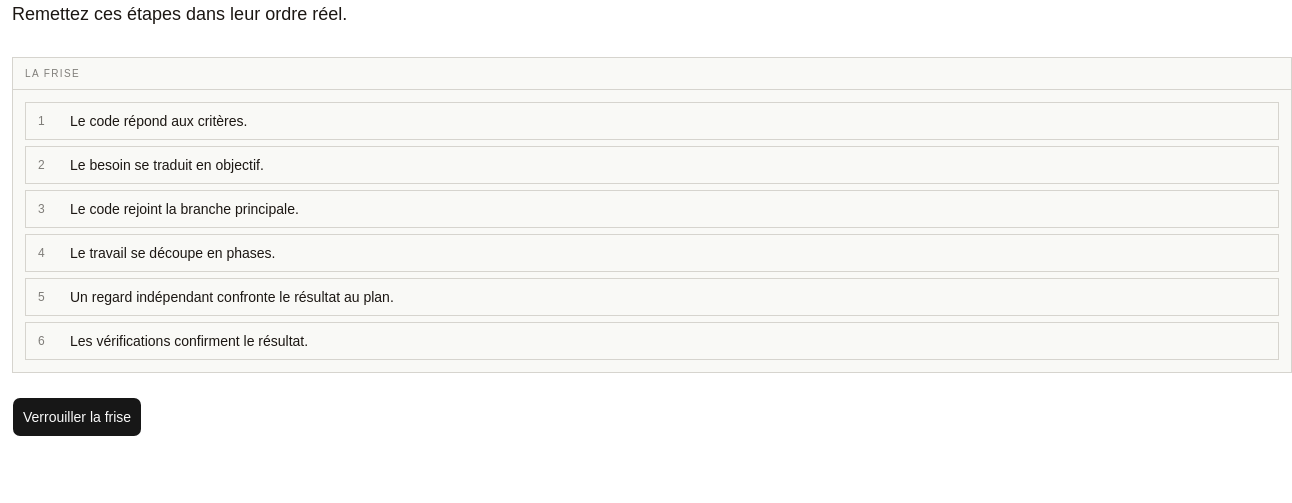
Test: flow order game, rendered › reveals every step in expected order with its note, never a verdict on the player
The width and height of the screenshot is (1292, 503).
Step 1. Click the button "Verrouiller la frise" → (77, 417), box [12,397,142,437]
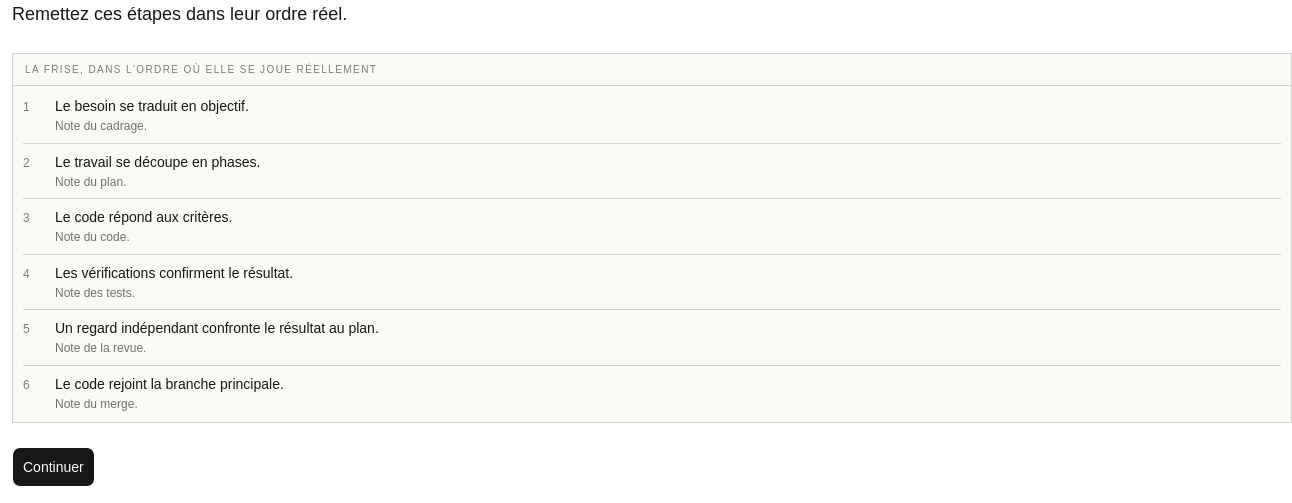
Expected: the text "Le besoin se traduit en objectif." is shown, [55,96,249,116]
Expected: the text "Note du cadrage." is shown, [55,119,147,133]
Expected: the text "Le travail se découpe en phases." is shown, [55,152,260,172]
